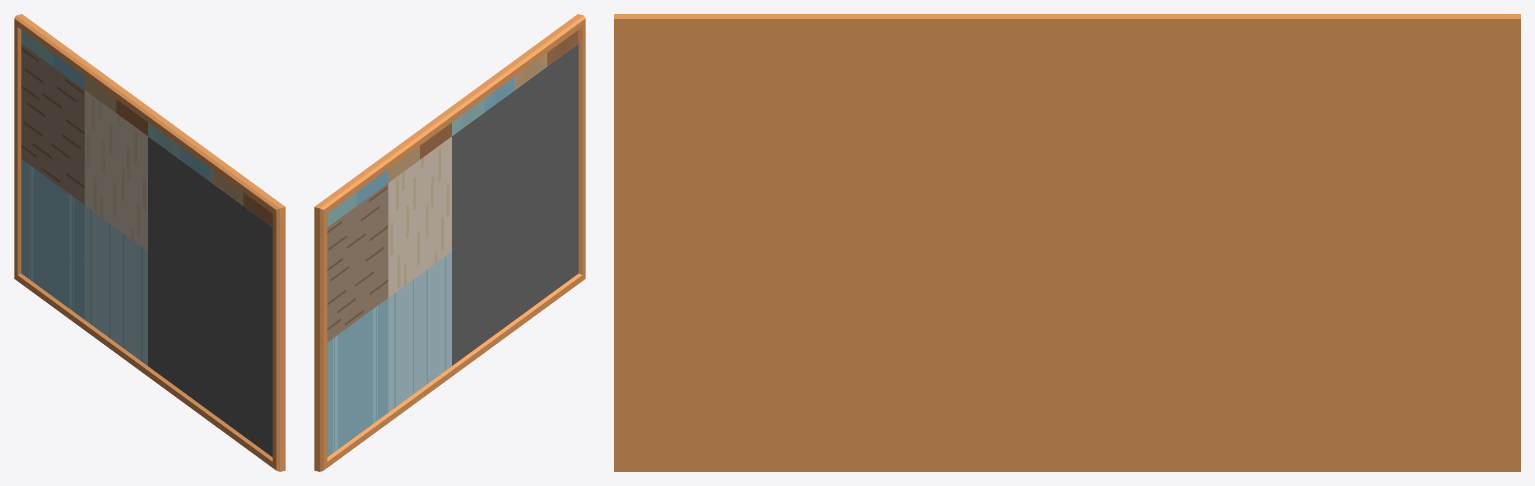
File: RotaBoard.FBX
3 renders of one model, left to right at view 1: azimuth 30°, elevation 25°; view 2: azimuth 150°, elevation 25°; view 3: azimuth 270°, elevation 25°, orthographic. The views are drawn at different scales.
Parts seen in each view (by area): view 1: RotaBoard; view 2: RotaBoard; view 3: RotaBoard.
Part boxes in pixels (bbox=[...]): RotaBoard: bbox=[14, 14, 285, 471]; RotaBoard: bbox=[314, 14, 585, 471]; RotaBoard: bbox=[614, 14, 1520, 471].
Size of the model in its own units: 1.18 by 33.86 by 61.42.
